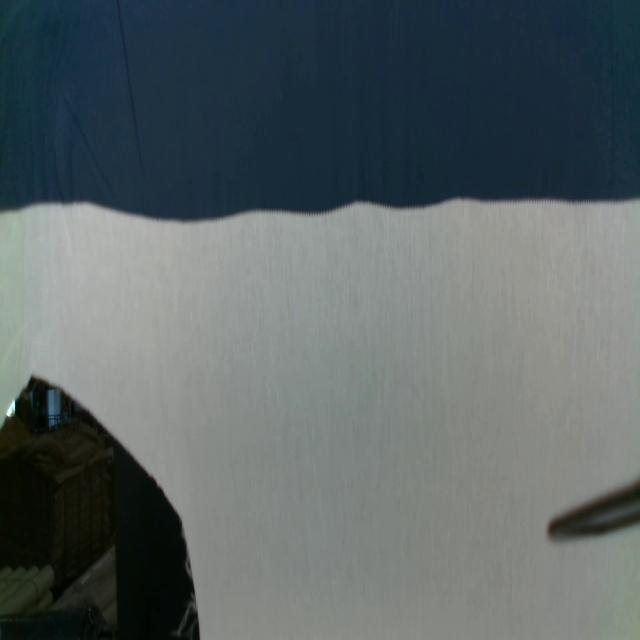crease: (116, 0, 140, 137)
hole: (0, 373, 202, 637)
